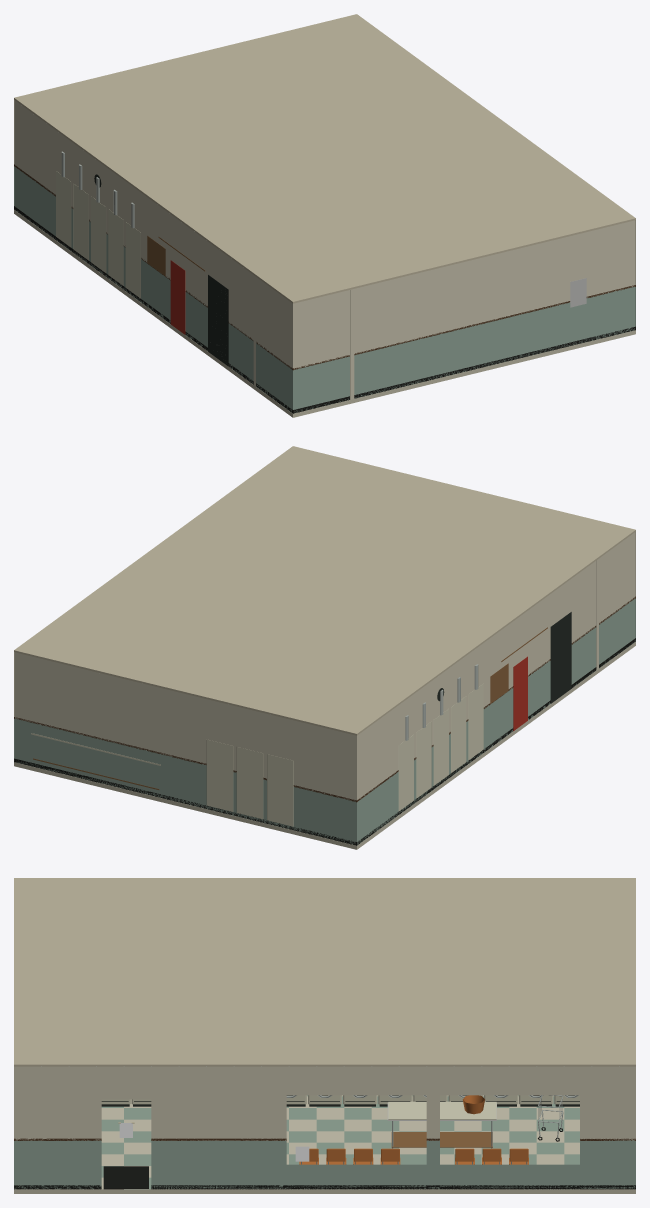
The model's file is SM_Town_Laundry_Interior_LOD1.fbx.
3 views of the same model, one above another, from view 1: azimuth 30°, elevation 25°; view 2: azimuth 150°, elevation 25°; view 3: azimuth 270°, elevation 25° (orthographic). The views are drawn at different scales.
Parts seen in each view (by area): view 1: SM_Town_Laundry_Interior_LOD1; view 2: SM_Town_Laundry_Interior_LOD1; view 3: SM_Town_Laundry_Interior_LOD1.
Boxes of the visible parts, <box> form: SM_Town_Laundry_Interior_LOD1: <box>14,14,635,417</box>; SM_Town_Laundry_Interior_LOD1: <box>14,446,635,849</box>; SM_Town_Laundry_Interior_LOD1: <box>14,878,635,1193</box>.
Size of the model in its own units: 9.96 by 13.78 by 3.16.
